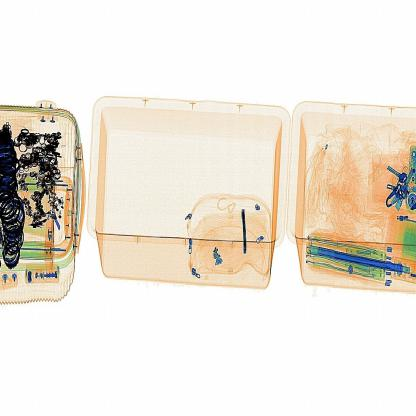knife: (236, 198, 258, 261)
